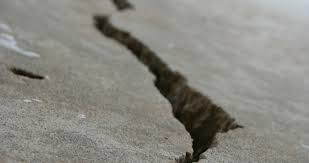crack: (89, 0, 244, 162)
